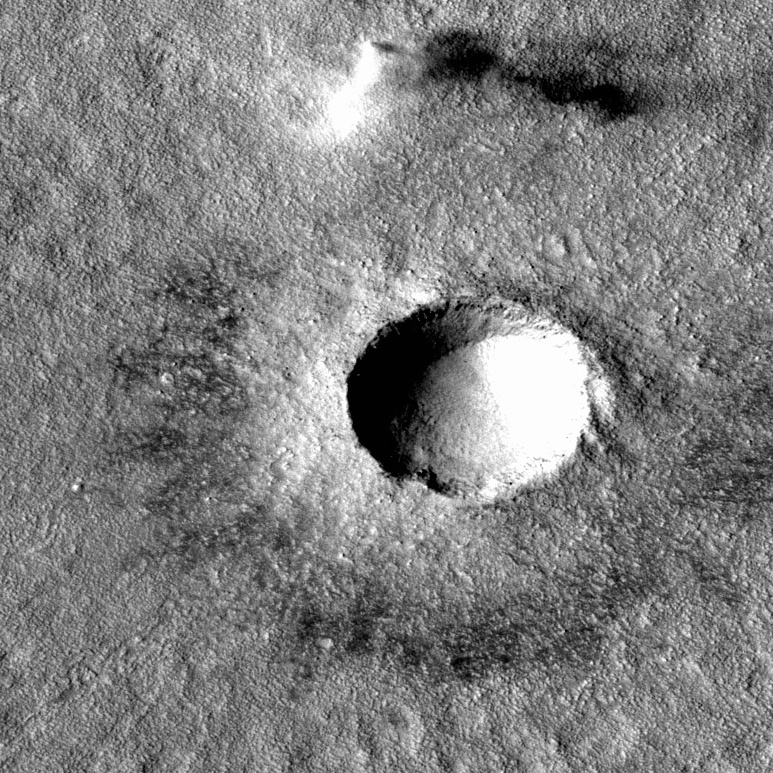dust_devil: (304, 26, 704, 148)
